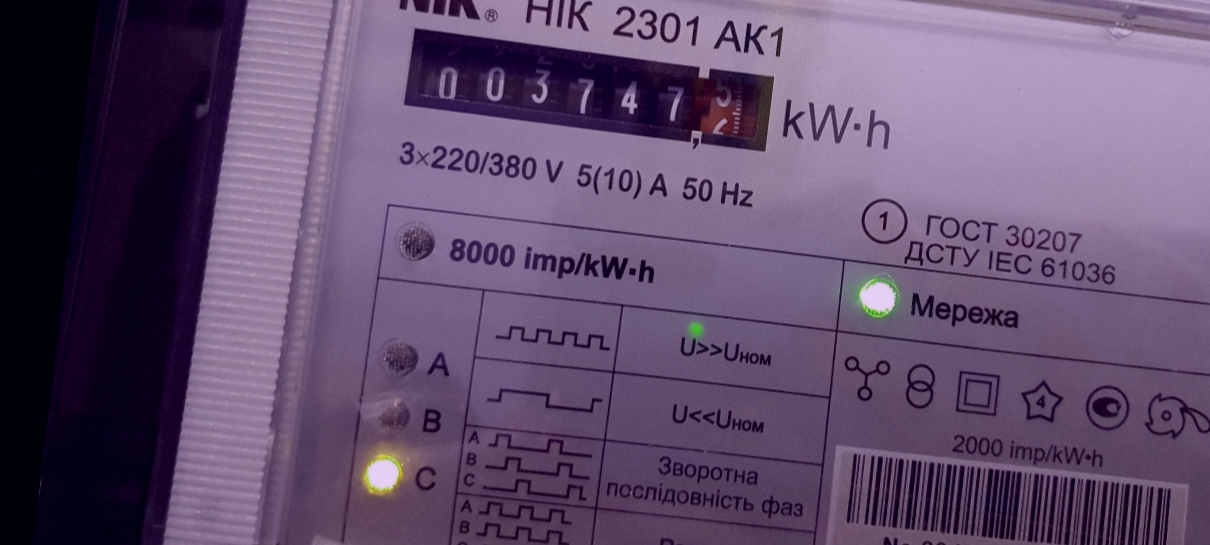0: (434, 62, 460, 100), (482, 62, 506, 102)
3: (528, 66, 551, 104)
4: (616, 75, 641, 117)
5: (711, 77, 734, 108)
6: (708, 113, 729, 136)
7: (659, 81, 686, 123), (571, 74, 595, 115)
screen: (391, 15, 790, 167)
